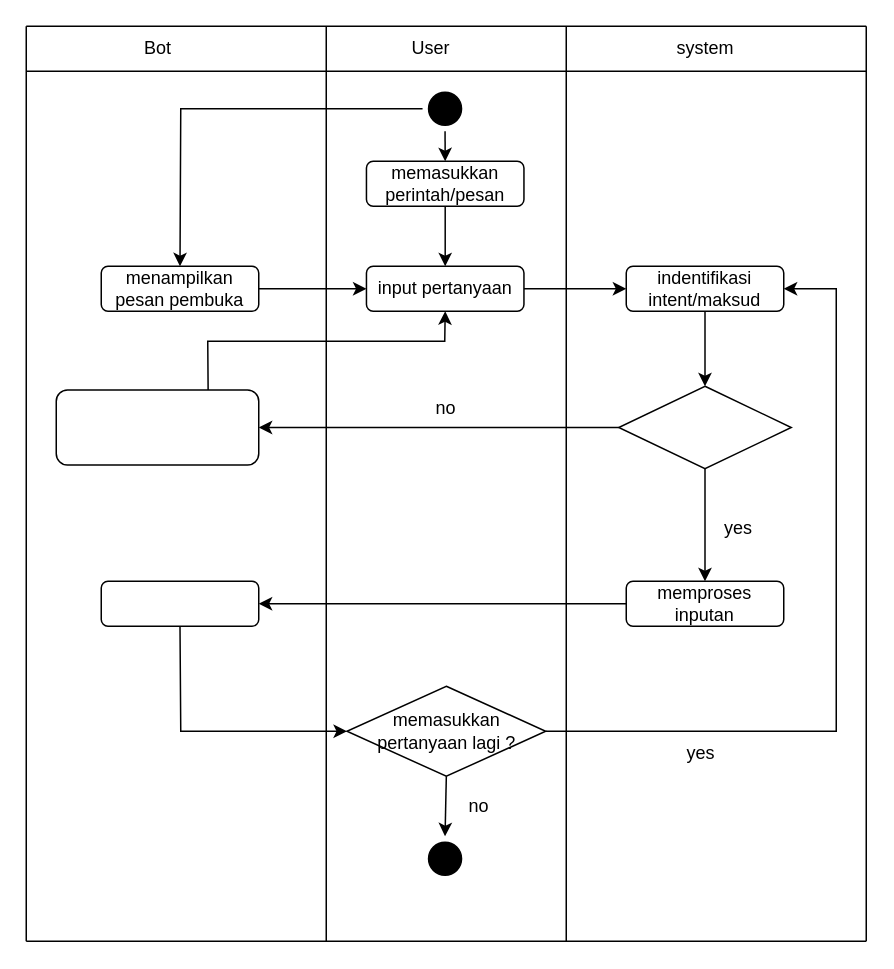
The diagram is 894 pixels wide and 969 high, and some of its shapes have lost their labels. Each missing label, with the centre of its shape:
menampilkan hasil sesui inputan: [179,603]
menampilkan pesan "default fallback intent": [157,426]
sesuai intent: [704,427]
